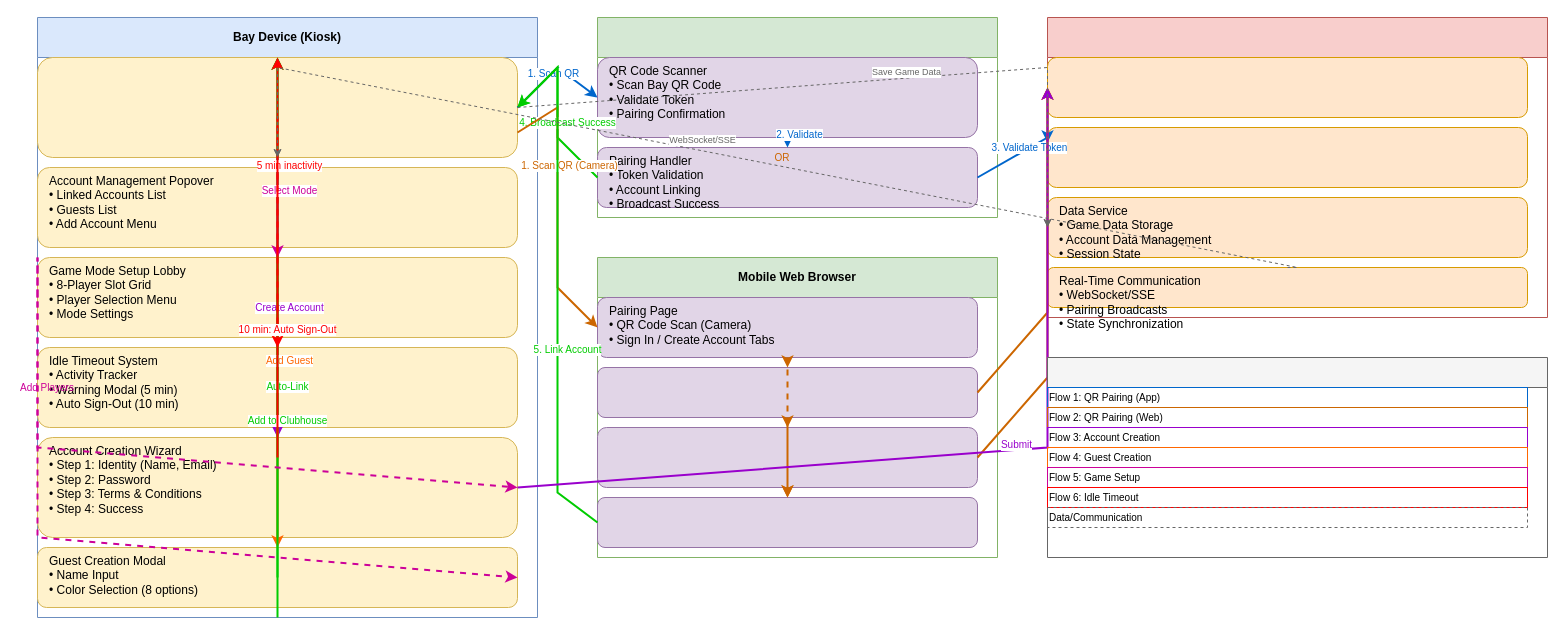
This 1565x644 diagram has some shape labels left out. The box of each missing label's shape, as (x1, y1, x2, y2) in pixels:
Account Creation (4 Steps) • Step 1-4 Wizard • Pairing Success: (596, 426, 978, 488)
Authentication Service • User Sign In • Account Creation • Token Management: (1046, 56, 1528, 118)
Backend Services: (1046, 16, 1548, 318)
Legend: (1046, 356, 1548, 558)
Mobile App: (596, 16, 998, 218)
Pairing Broadcast • Send Success Message • Link Account to Bay: (596, 496, 978, 548)
Pairing Service • Token Generation • Token Validation • Bay-Account Linking: (1046, 126, 1528, 188)
Play Screen • Game Mode Tiles • In the Clubhouse Display • QR Code Widget: (36, 56, 518, 158)
Sign In Flow • Email/Password Entry • Authentication: (596, 366, 978, 418)
